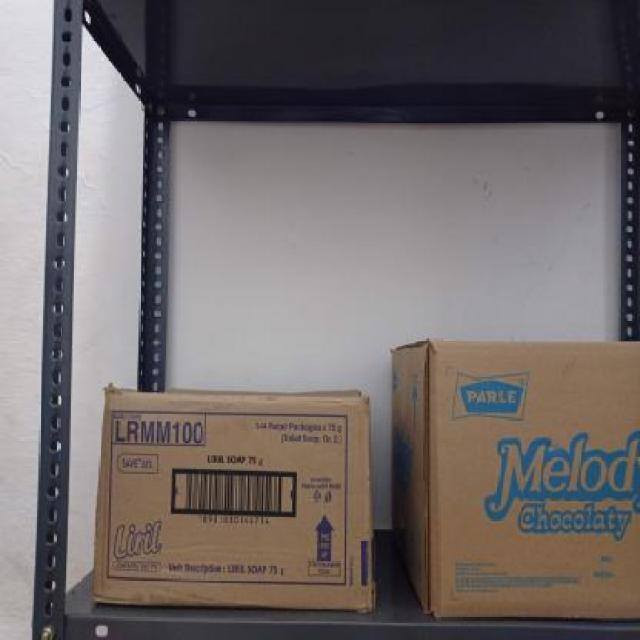box: (423, 340, 640, 620), (91, 390, 371, 601)
